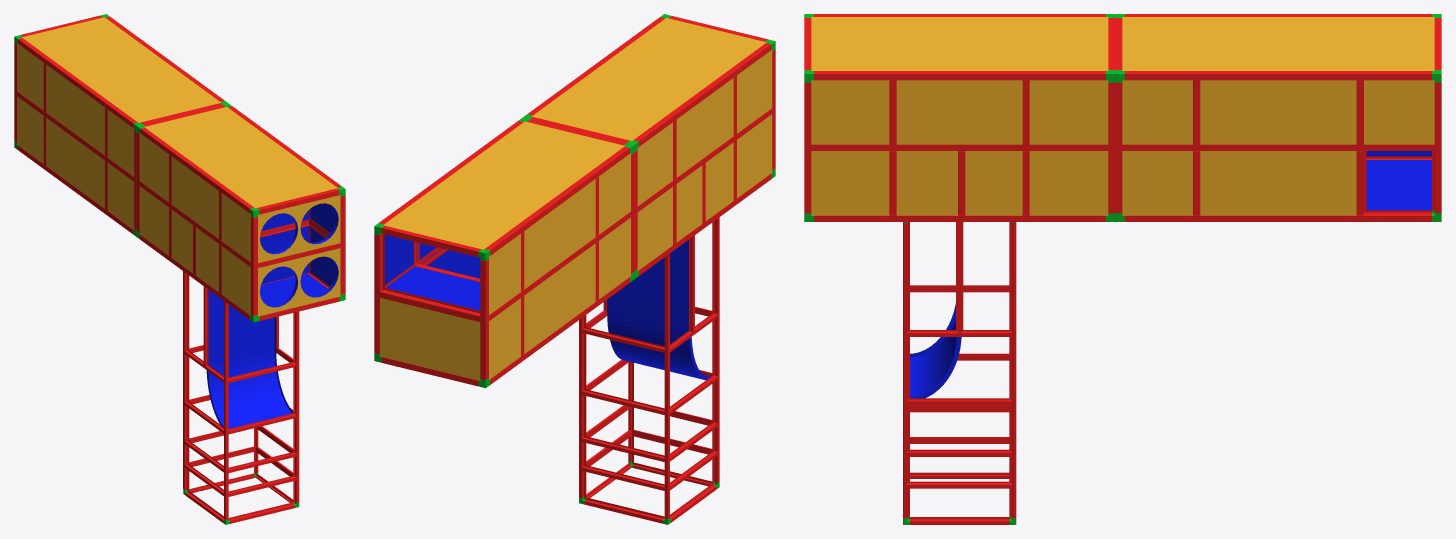
The model's file is rama.FBX.
3 views of the same model, side by side, from view 1: azimuth 30°, elevation 25°; view 2: azimuth 150°, elevation 25°; view 3: azimuth 270°, elevation 25° (orthographic). The views are drawn at different scales.
Parts seen in each view (by area): view 1: rama2, rama1; view 2: rama2, rama1; view 3: rama2, rama1.
Boxes of the visible parts, x1,y1,x2,y2 form: rama2: (17,17,337,315); rama1: (14,14,345,524); rama2: (380,18,772,380); rama1: (374,14,775,524); rama2: (811,17,1434,215); rama1: (804,14,1441,524).
Bounding box in the file's own units: 1000 × 3556 × 4493.
